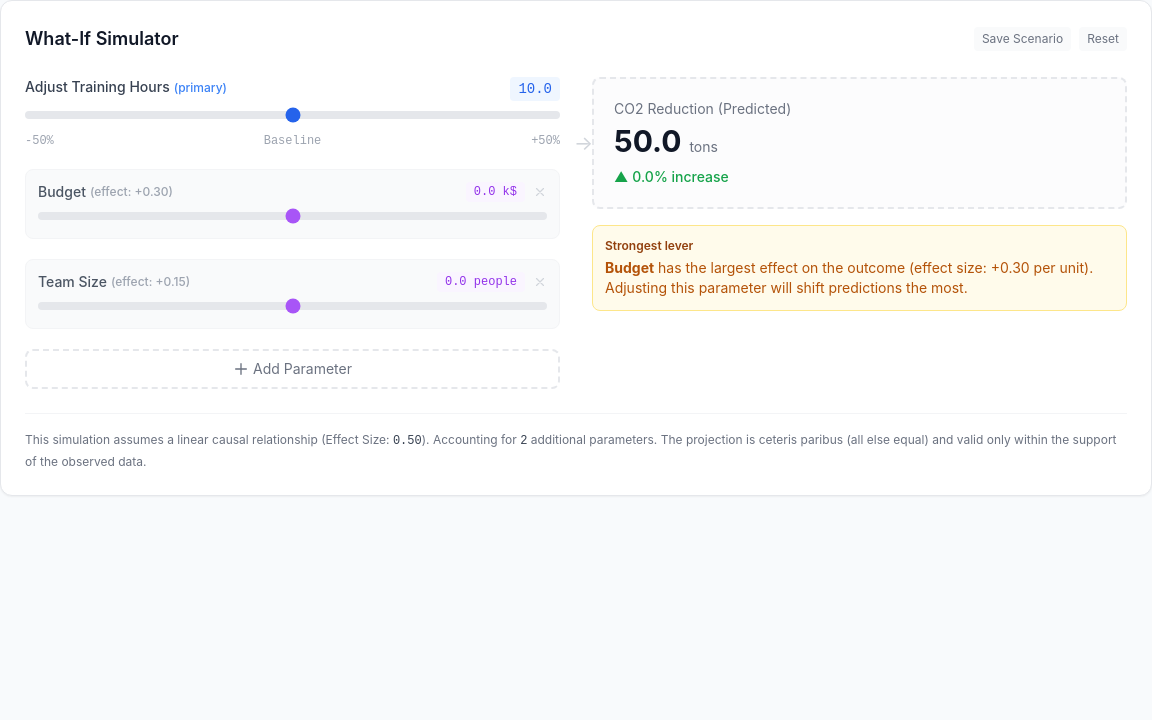
Test: InterventionSimulator › removes a parameter when remove button is clicked
Expected: the element with test id "confounder-Budget" is shown, [25,169,560,239]
Click the button with test id "remove-Budget": click(540, 192) [533,185,547,199]
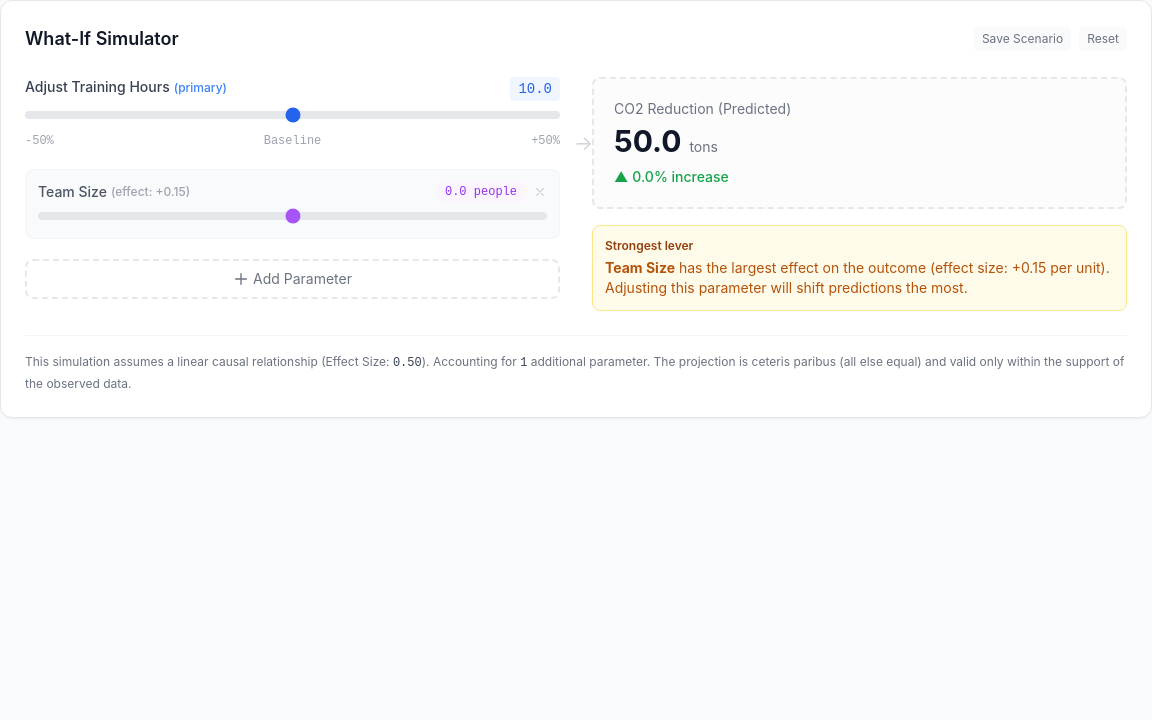
Now the element with test id "confounder-Budget" is gone
